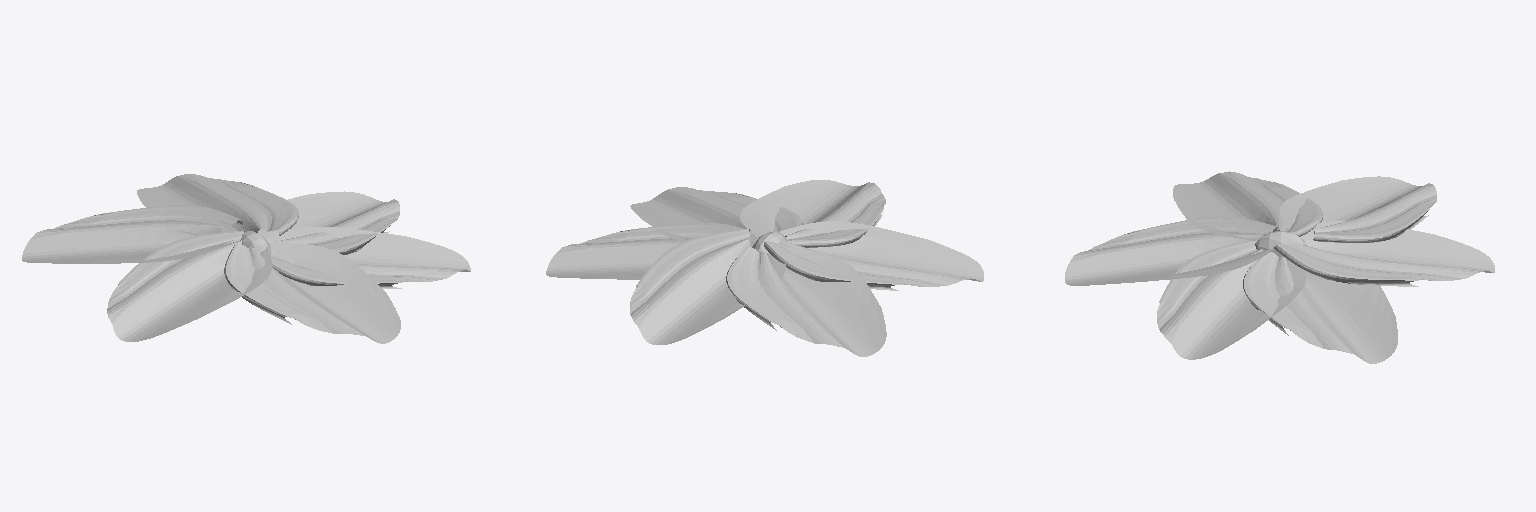
Rendered from flower2.obj.
The picture shows the model from 3 angles: view 1: azimuth 30°, elevation 25°; view 2: azimuth 150°, elevation 25°; view 3: azimuth 270°, elevation 25°; orthographic projection.
Parts seen in each view (by area): view 1: Sphere_1; view 2: Sphere_1; view 3: Sphere_1.
Part boxes in pixels (x1,y1,x2,y2): Sphere_1: (22, 174, 470, 343); Sphere_1: (546, 180, 983, 356); Sphere_1: (1065, 171, 1494, 363).
Bounding box in the file's own units: 3.24 × 0.4021 × 3.43.